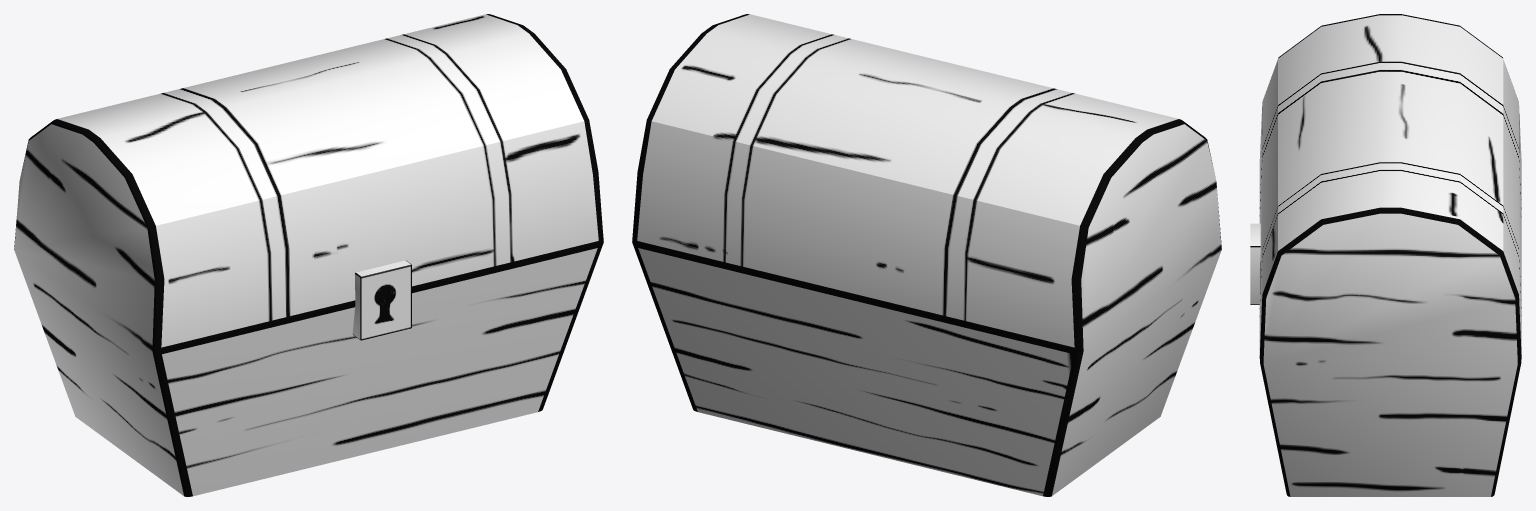
File: Treasure.fbx
3 renders of one model, left to right at view 1: azimuth 30°, elevation 25°; view 2: azimuth 150°, elevation 25°; view 3: azimuth 270°, elevation 25°, orthographic. The views are drawn at different scales.
Visible parts, largest first — view 1: Cofre; view 2: Cofre; view 3: Cofre.
Part boxes in pixels (left/top/right/bottom): Cofre: left=14, top=14, right=603, bottom=496; Cofre: left=632, top=14, right=1221, bottom=496; Cofre: left=1250, top=14, right=1521, bottom=496.
Bounding box in the file's own units: 2.52 × 1.77 × 1.42.
